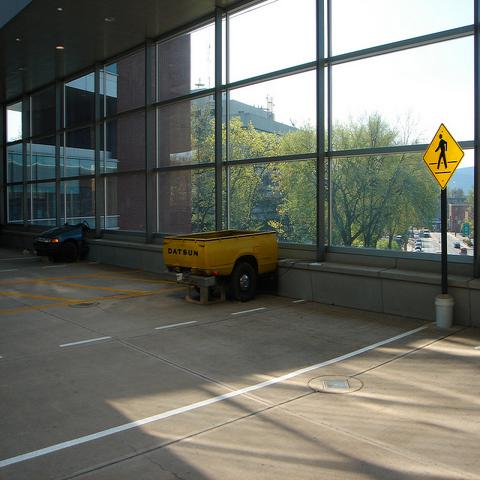car: (26, 218, 96, 264), (458, 247, 468, 254), (423, 228, 430, 238), (414, 243, 422, 251), (454, 241, 461, 249), (416, 250, 423, 252)
